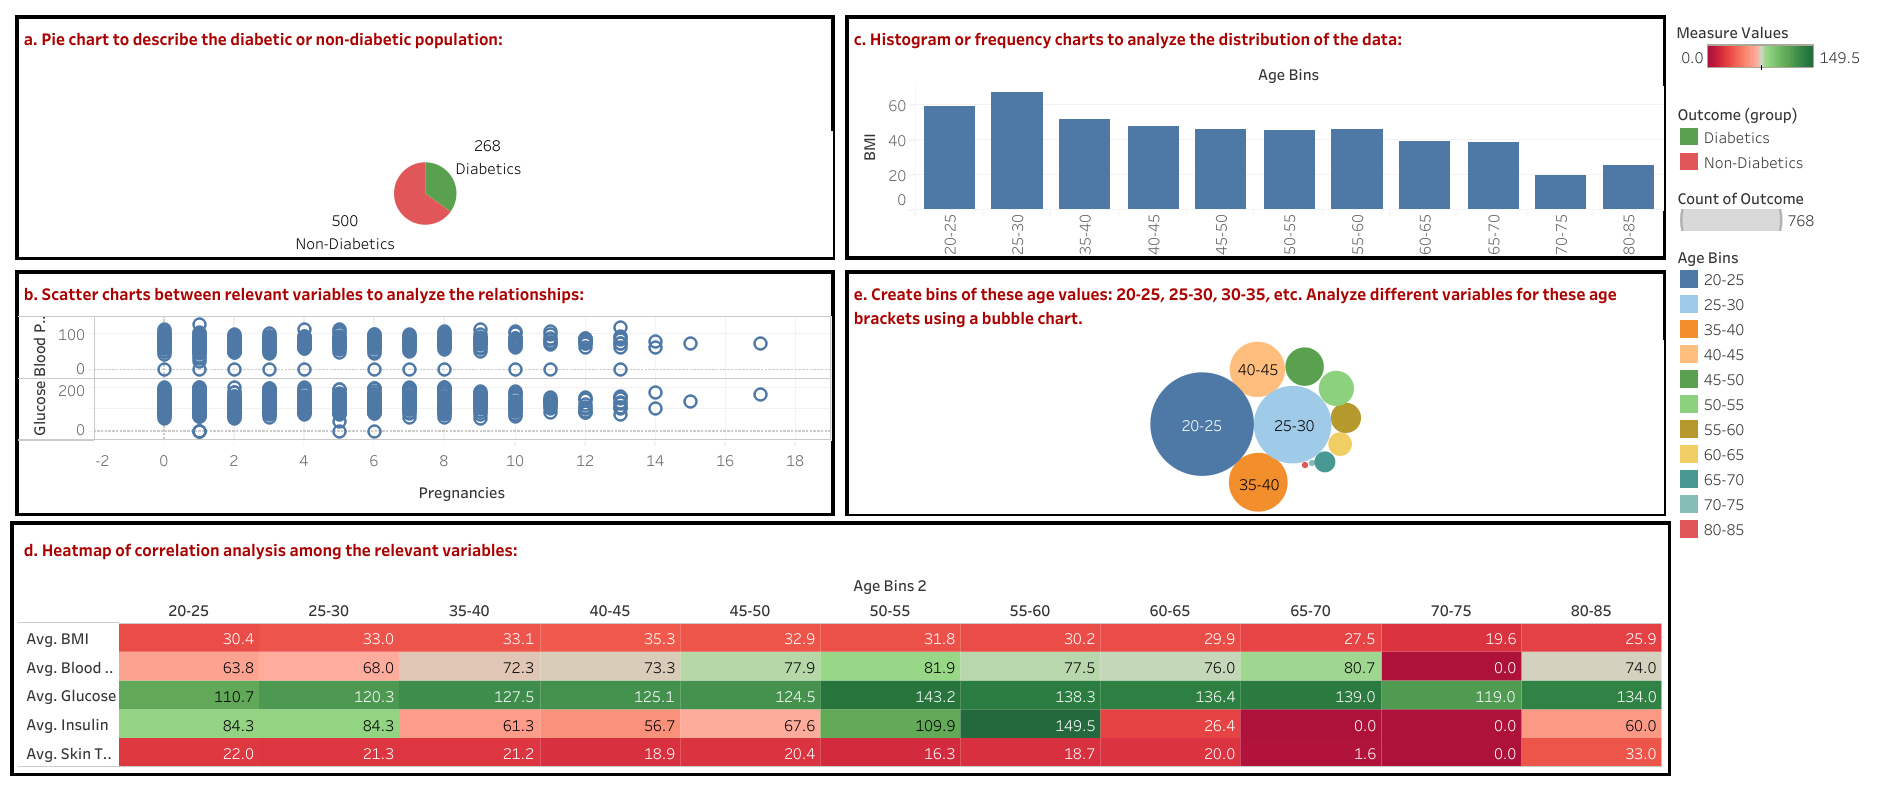

What the dashboard file says about the page in this screenshot:
{"tool":"tableau","page":{"name":"Dashboard 1","canvas":[1000,1000],"units":"permille","ordinal":0},"visuals":[{"type":"worksheet","title":"Pie Chart","mark":"Pie","box":[4.7,9.4,448.4,327.1]},{"type":"worksheet","title":"Histogram","mark":"Bar","rows":["BMI"],"cols":["Calculation_859624622278930433"],"box":[453.1,9.4,448.4,327.1]},{"type":"legend","title":"Heat Map","param":"[federated.0nzsq391f5n41e1bycmr61afo803].[Multiple Values]","box":[901.6,9.4,93.7,85.8]},{"type":"legend","title":"Pie Chart","param":"[federated.0nzsq391f5n41e1bycmr61afo803].[Outcome (group)]","box":[901.6,95.2,93.7,84.6]},{"type":"legend","title":"Pie Chart","param":"[federated.0nzsq391f5n41e1bycmr61afo803].[cnt:Outcome:qk]","box":[901.6,179.8,93.7,59.9]},{"type":"legend","title":"Blood Pressure Report","param":"[federated.0nzsq391f5n41e1bycmr61afo803].[none:Calculation_859624622278930433:nk","box":[901.6,239.7,93.7,306.7]},{"type":"worksheet","title":"Scatter Chart","mark":"Shape","rows":["BloodPressure","Glucose"],"cols":["Pregnancies"],"box":[4.7,336.5,448.4,327.1]},{"type":"worksheet","title":"Blood Pressure Report","mark":"Circle","box":[453.1,336.5,448.4,327.1]},{"type":"worksheet","title":"Heat Map","mark":"Square","cols":["Calculation_859624622282051586"],"box":[6.5,667,893.4,320]}]}

Visuals, with their boxes on the dashboard's canvas, which has no fixed pixel size, in thousandths of its width and height (x1, y1, x2, y2). These are canvas units, not pixel positions in the 1880x785 screenshot, which may show the page scaled, cropped or inside an application window:
"Pie Chart" worksheet (Pie marks): l=5, t=9, r=453, b=336
"Histogram" worksheet (Bar marks): l=453, t=9, r=902, b=336
"Heat Map" legend: l=902, t=9, r=995, b=95
"Pie Chart" legend: l=902, t=95, r=995, b=180
"Pie Chart" legend: l=902, t=180, r=995, b=240
"Blood Pressure Report" legend: l=902, t=240, r=995, b=546
"Scatter Chart" worksheet (Shape marks): l=5, t=336, r=453, b=664
"Blood Pressure Report" worksheet (Circle marks): l=453, t=336, r=902, b=664
"Heat Map" worksheet (Square marks): l=6, t=667, r=900, b=987
